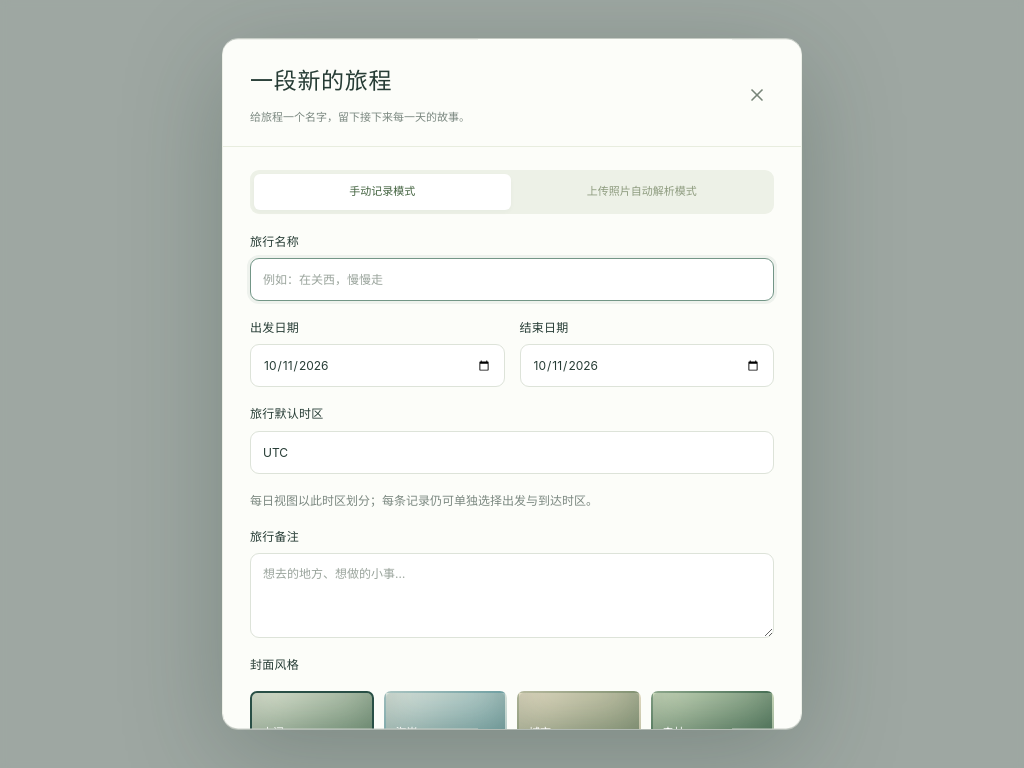
Test: keeps the editor open when persistence fails
The width and height of the screenshot is (1024, 768).
Step 1. Type "旅行" into the field labelled "旅行名称" → (512, 280), box [250,259,774,302]
(page scrolled)
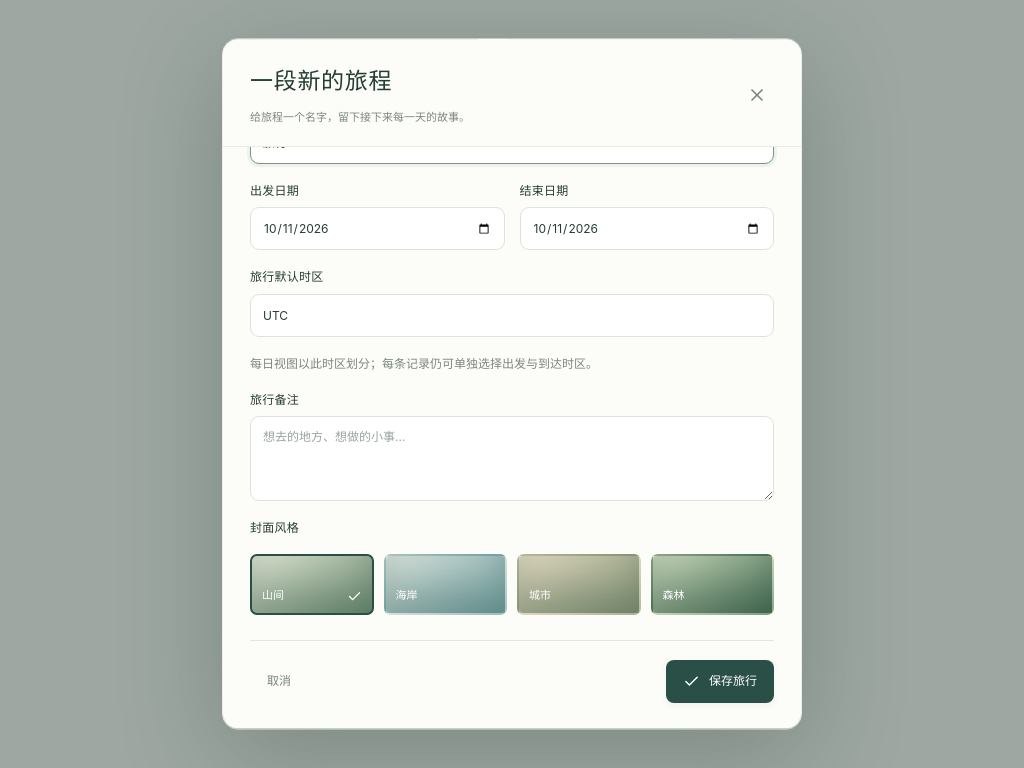
Step 2. Click the button "保存旅行" → (720, 682), box [666,661,774,704]
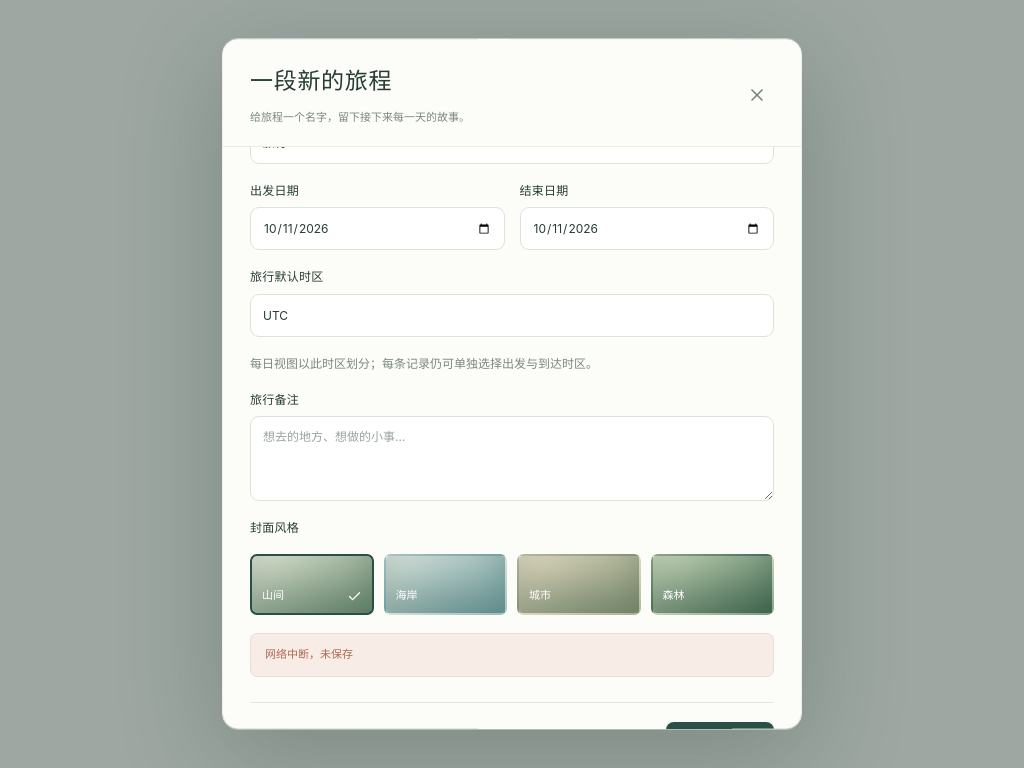
Now the message shows "未保存", box [265,648,353,662]
